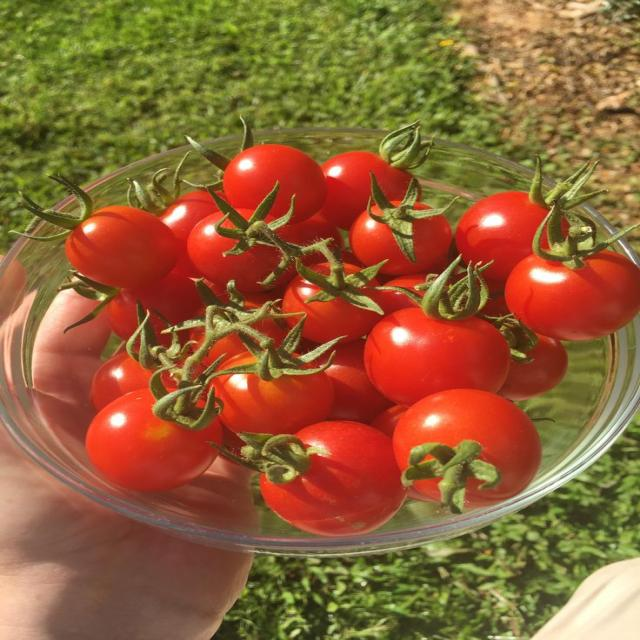tomato: (394, 389, 541, 506), (260, 421, 406, 535), (365, 308, 510, 405), (87, 389, 221, 491), (506, 250, 639, 340), (65, 206, 178, 287), (456, 192, 548, 281), (223, 144, 326, 222), (187, 212, 280, 292), (214, 372, 333, 434), (321, 151, 413, 229), (282, 275, 380, 343), (350, 211, 452, 275), (107, 272, 203, 339), (326, 340, 391, 423), (160, 190, 219, 277), (500, 336, 567, 400), (90, 352, 152, 410), (278, 214, 343, 247), (201, 333, 247, 369), (370, 405, 406, 437), (373, 290, 417, 314)
